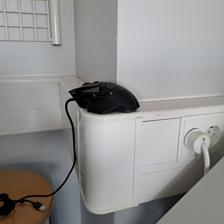mouse: (67, 79, 140, 115)
